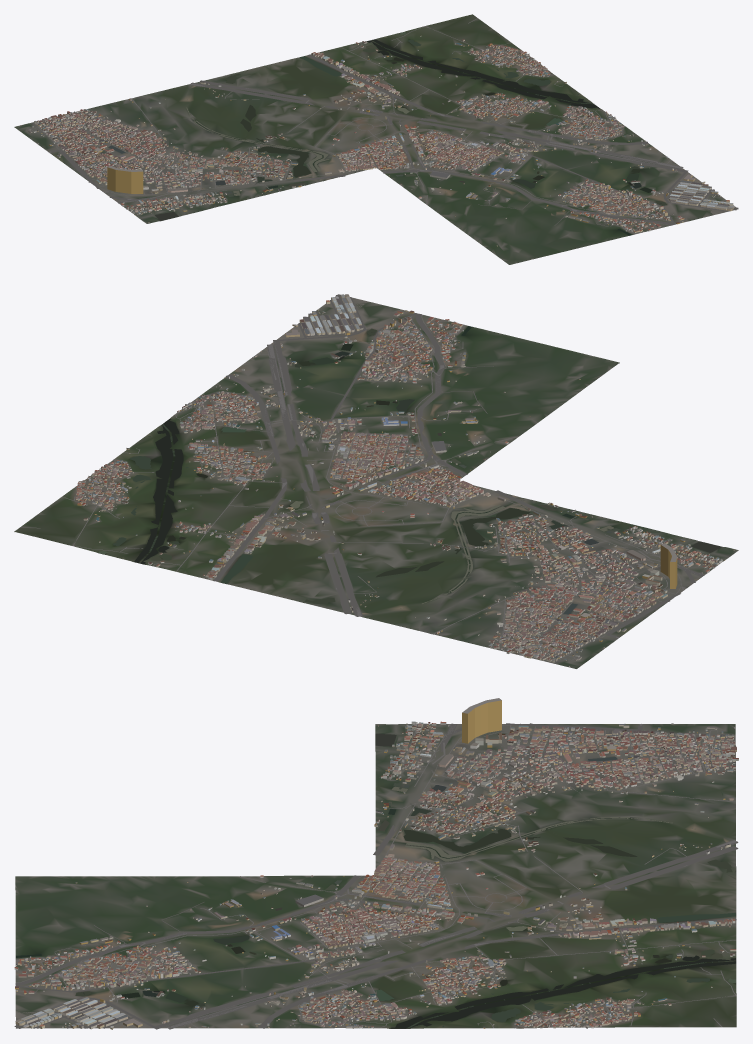
The picture shows the model from 3 angles, top to bottom: view 1: azimuth 30°, elevation 25°; view 2: azimuth 150°, elevation 25°; view 3: azimuth 270°, elevation 25°; orthographic projection. The views are drawn at different scales.
Visible parts, largest first — view 1: ground, buildings, roads, water; view 2: ground, buildings, roads, water; view 3: ground, buildings, roads, water.
Part boxes in pixels (bbox=[...]): ground: bbox=[14, 14, 736, 264]; buildings: bbox=[20, 35, 735, 246]; roads: bbox=[31, 18, 738, 233]; water: bbox=[109, 32, 667, 235]; ground: bbox=[14, 297, 738, 668]; buildings: bbox=[75, 294, 734, 666]; roads: bbox=[20, 294, 715, 663]; water: bbox=[98, 326, 721, 614]; ground: bbox=[15, 723, 736, 1028]; buildings: bbox=[14, 698, 738, 1029]; roads: bbox=[14, 723, 738, 1029]; water: bbox=[16, 733, 736, 1028].
Size of the model in its own units: 2820 by 135 by 2820.
